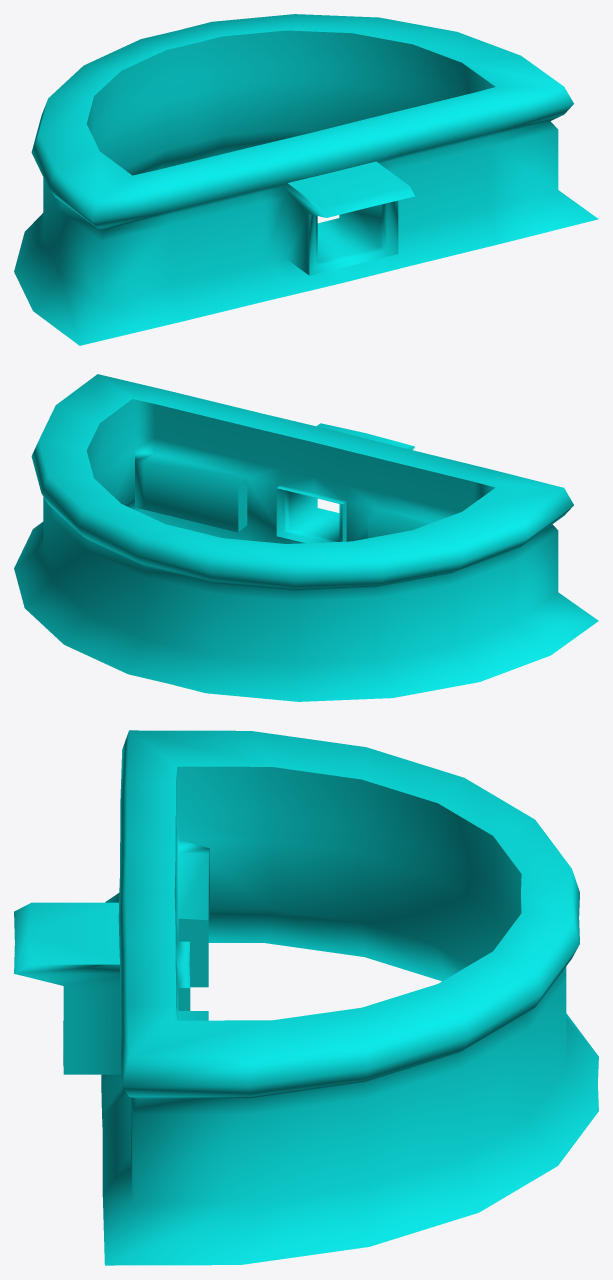
The model's file is mdl_ciudadela_coliseo_luna.fbx.
3 views of the same model, one above another, from view 1: azimuth 30°, elevation 25°; view 2: azimuth 150°, elevation 25°; view 3: azimuth 270°, elevation 25° (orthographic). The views are drawn at different scales.
Visible parts, largest first — view 1: mdl_ciudadela_coliseo_luna; view 2: mdl_ciudadela_coliseo_luna; view 3: mdl_ciudadela_coliseo_luna.
Boxes of the visible parts, <box> form: mdl_ciudadela_coliseo_luna: <box>14,14,598,345</box>; mdl_ciudadela_coliseo_luna: <box>14,374,598,701</box>; mdl_ciudadela_coliseo_luna: <box>14,730,598,1265</box>.
Size of the model in its own units: 26.72 by 6.53 by 18.19.
